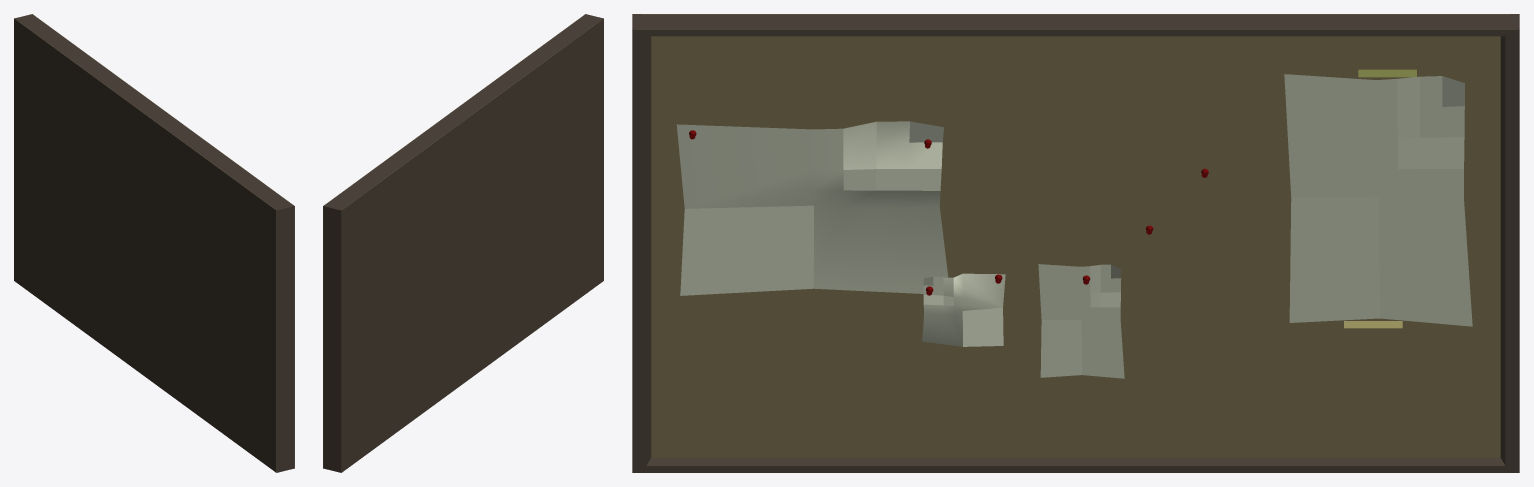
File: pin board blank pages.fbx
The picture shows the model from 3 angles, left to right: view 1: azimuth 30°, elevation 25°; view 2: azimuth 150°, elevation 25°; view 3: azimuth 270°, elevation 25°; orthographic projection. The views are drawn at different scales.
Visible parts, largest first — view 1: Cube; view 2: Cube; view 3: Cube, Plane.004, Plane.001, Plane.002, Plane.003.
Boxes of the visible parts, x1=… form: Cube: x1=14, y1=14, x2=294, y2=472; Cube: x1=323, y1=14, x2=603, y2=472; Cube: x1=632, y1=14, x2=1519, y2=472; Plane.004: x1=1284, y1=74, x2=1472, y2=326; Plane.001: x1=676, y1=121, x2=948, y2=295; Plane.002: x1=1038, y1=264, x2=1124, y2=378; Plane.003: x1=922, y1=273, x2=1005, y2=346.
Size of the model in its own units: 44.12 by 436 by 790.
